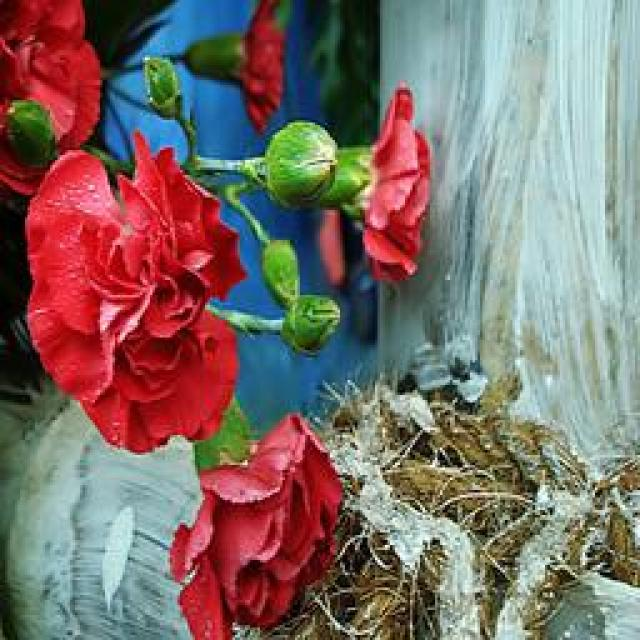carnation: (23, 125, 260, 449)
